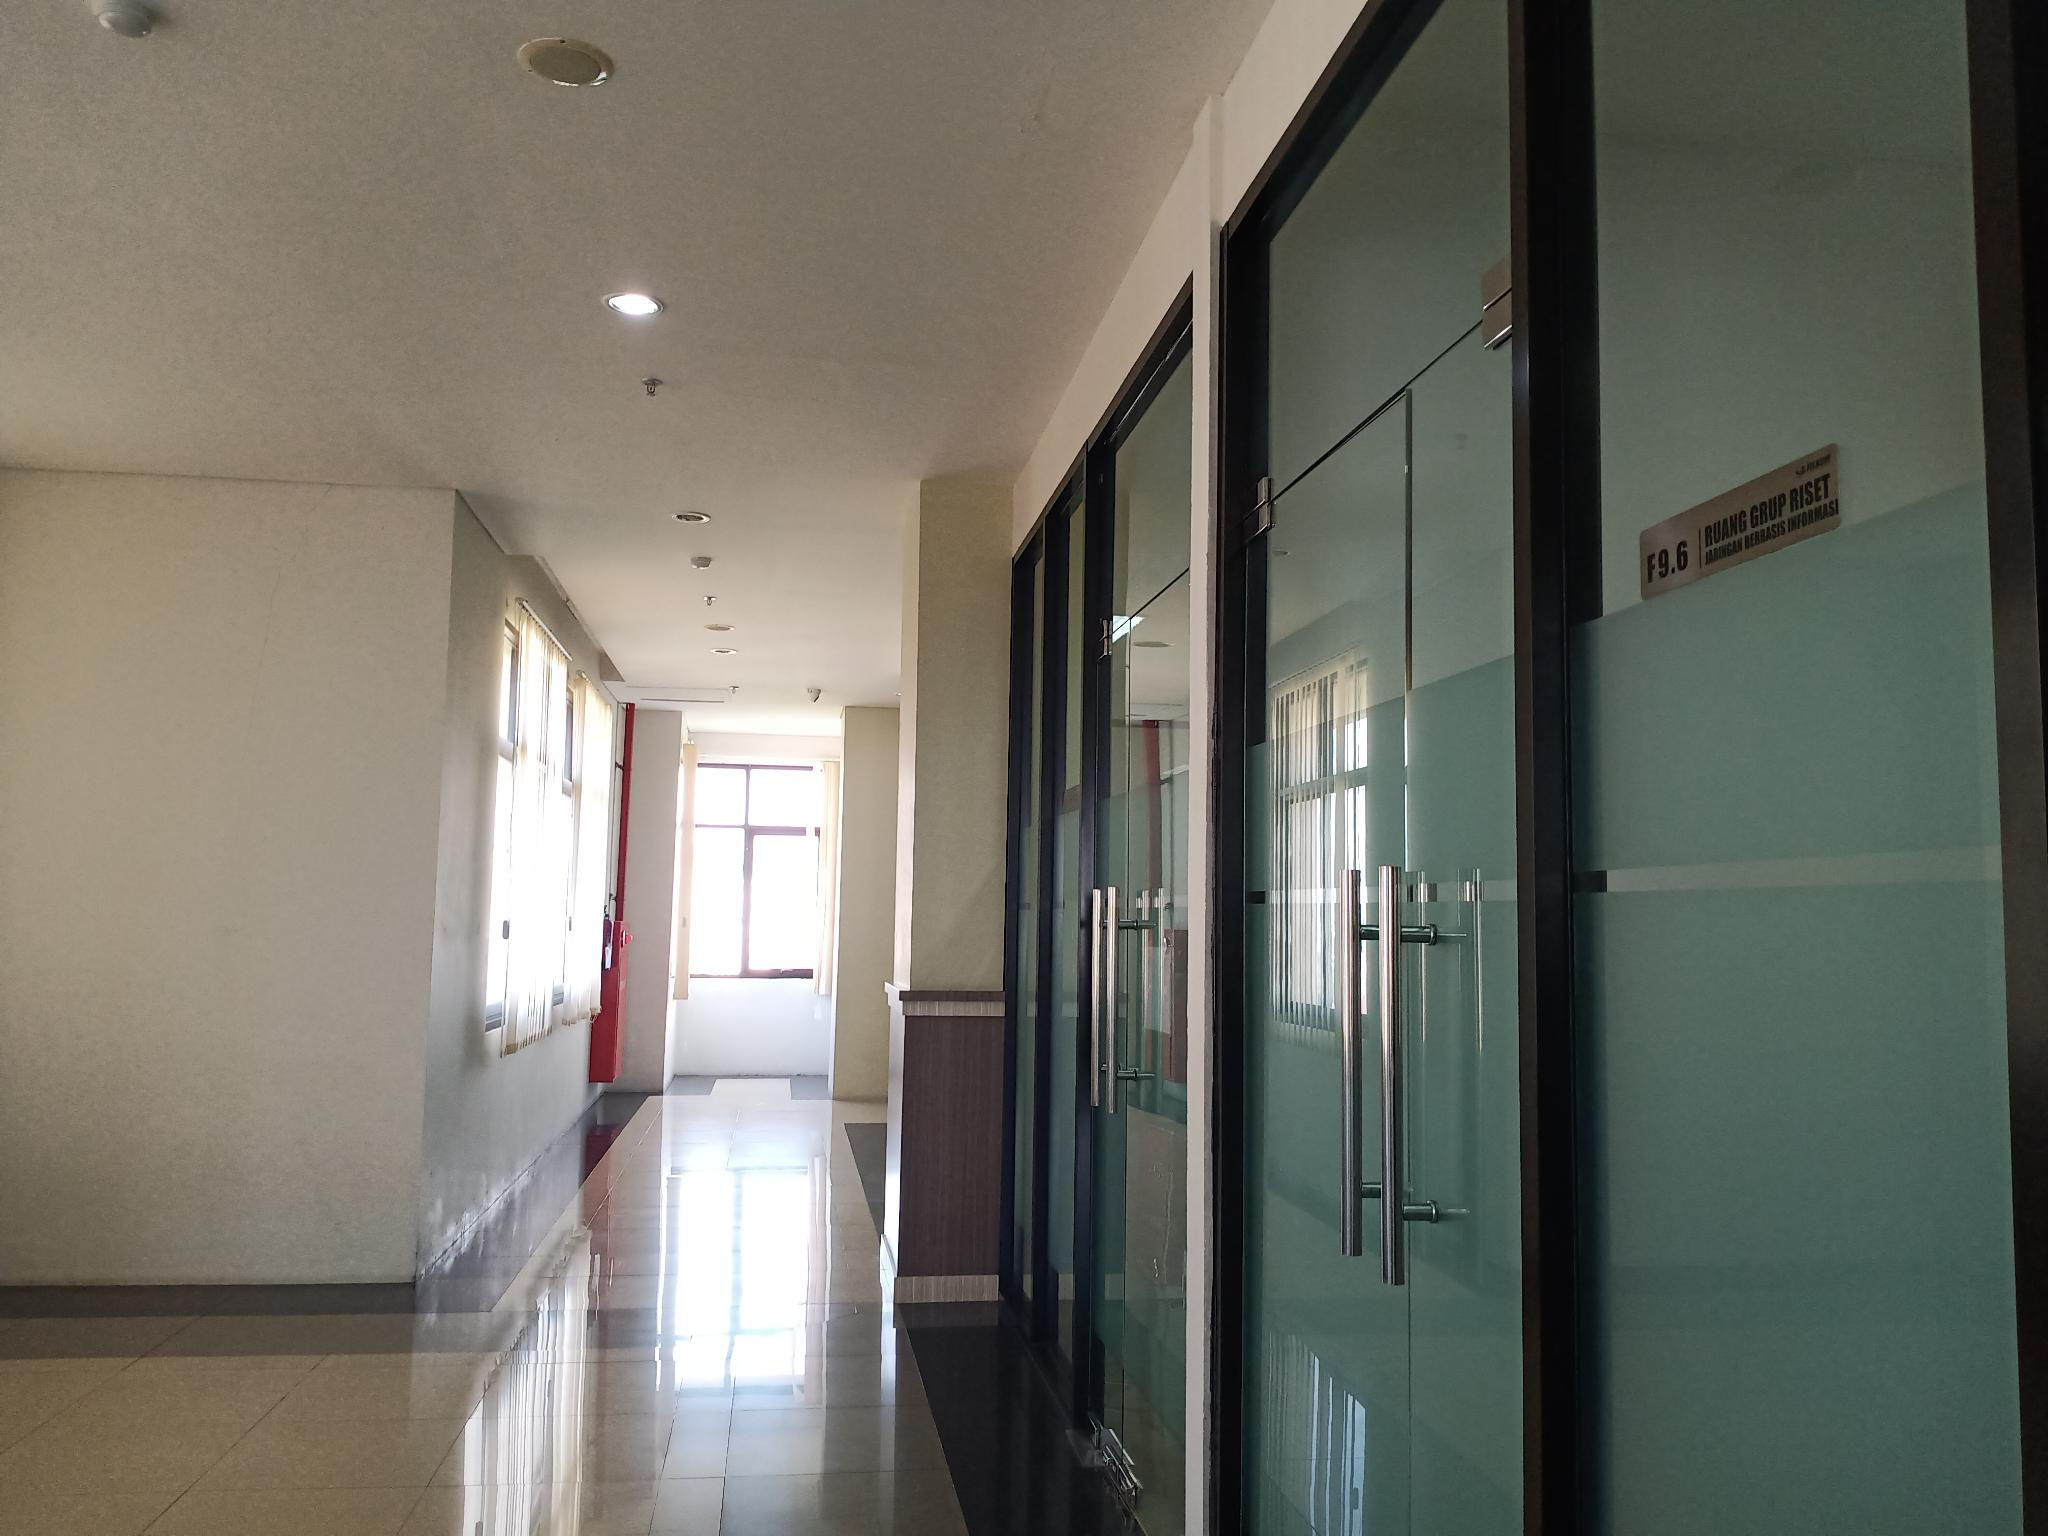plate: (1637, 440, 1840, 600)
